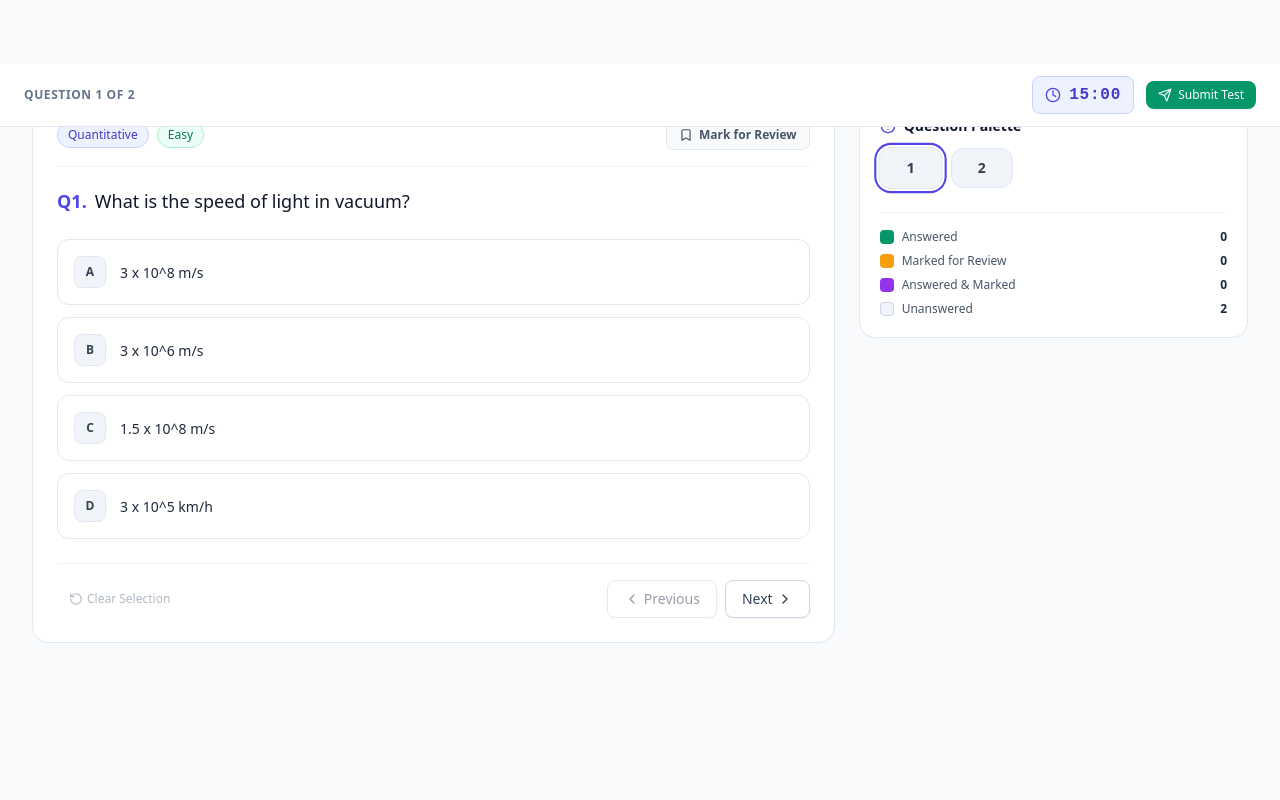
Test: Candidate Assessment UI Flow › Assessment Engine Reliability & Concurrency › displays connection error and never produces a false "Saved" status on network failure
The image size is (1280, 800).
Click the text "3 x 10^8 m/s".
click(162, 272)  # box x1=120 y1=262 x2=203 y2=282
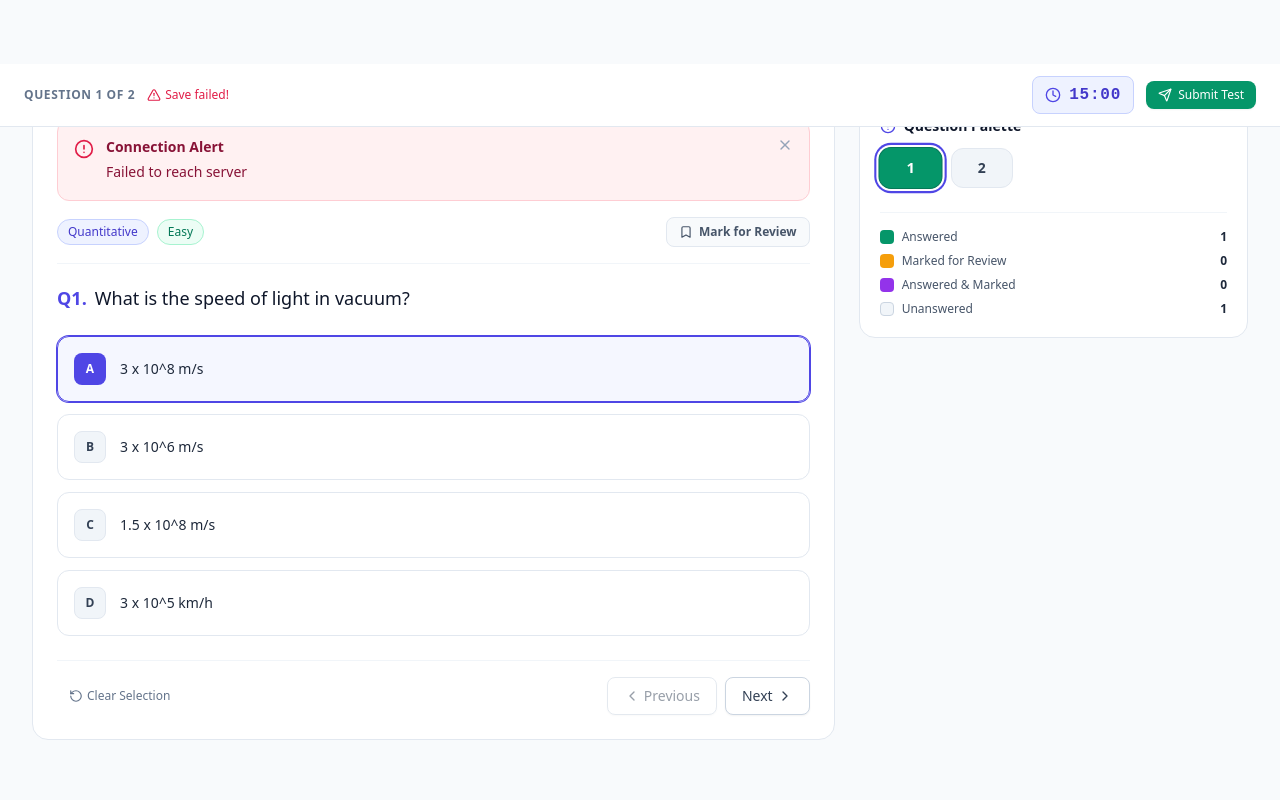
Check: the text "Save failed!" is shown, box x1=147 y1=87 x2=229 y2=103
Check: the text "Failed to reach server" is shown, box x1=106 y1=162 x2=247 y2=181
